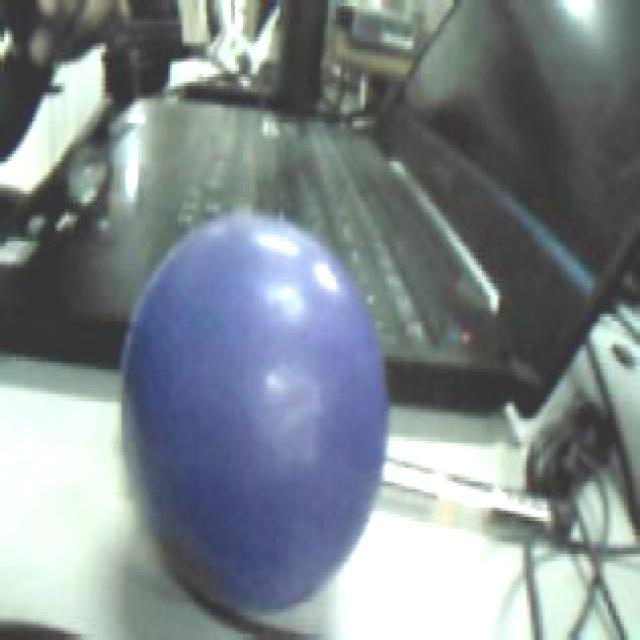BallPurple: (122, 214, 389, 612)
